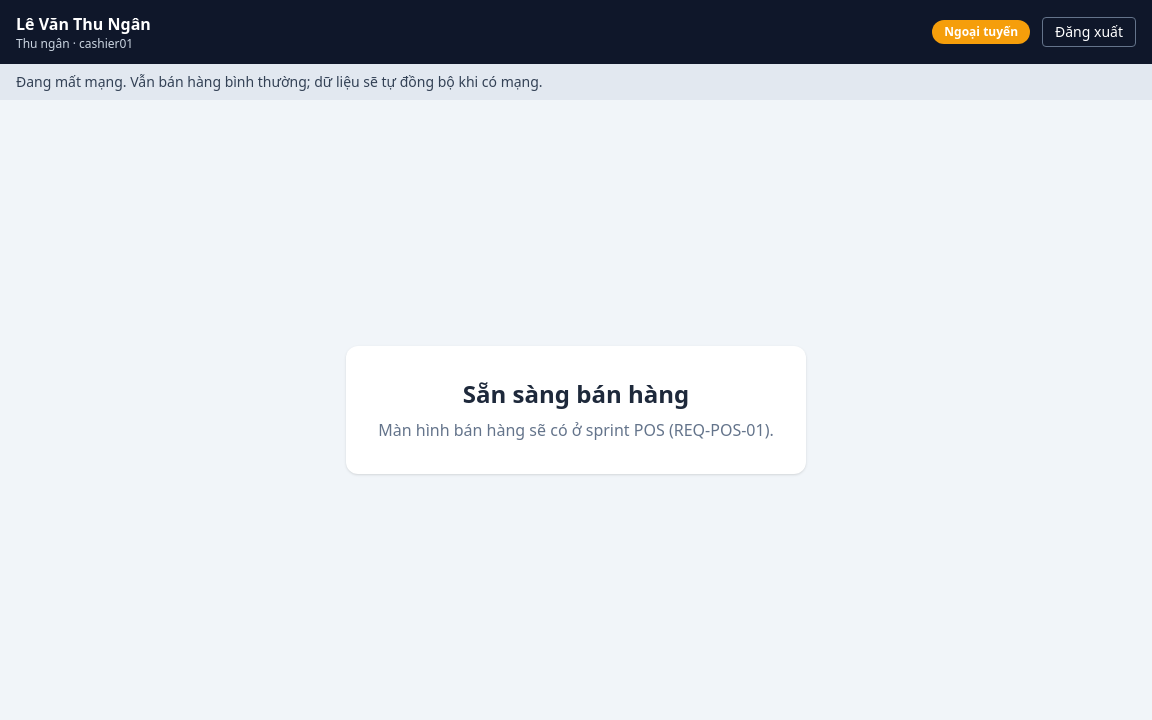
Test: POS screens › REQ-POS-05: confirming the offline logout clears the local session
The width and height of the screenshot is (1152, 720).
Click the button "Đăng xuất" at (1089, 32), box [1042,17,1136,47]
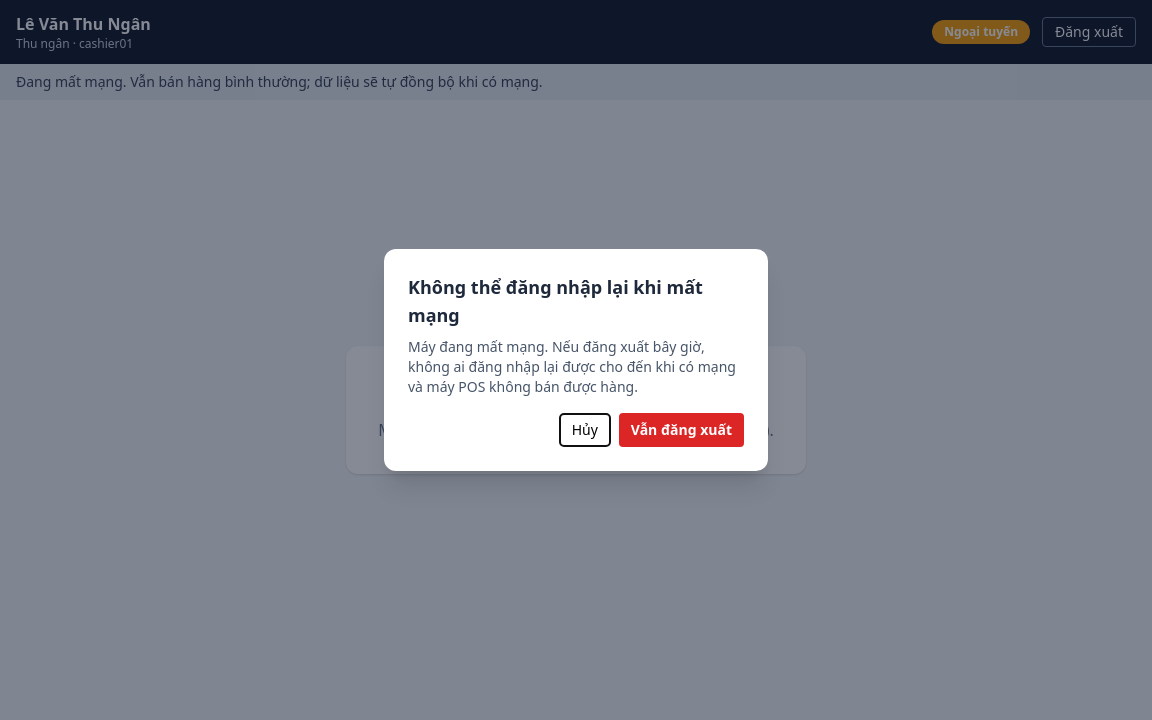
Click the button "Vẫn đăng xuất" at (681, 430), box [619,413,744,447]
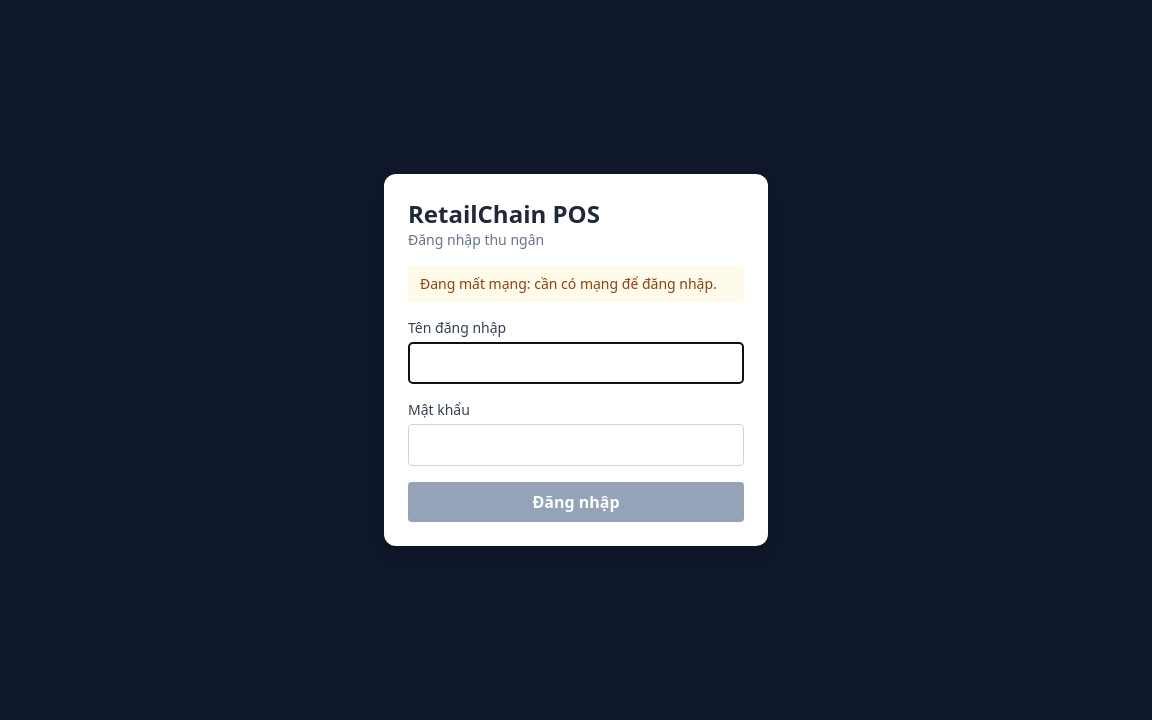
Expected: the form "Đăng nhập thu ngân" is shown, [384,174,768,546]
